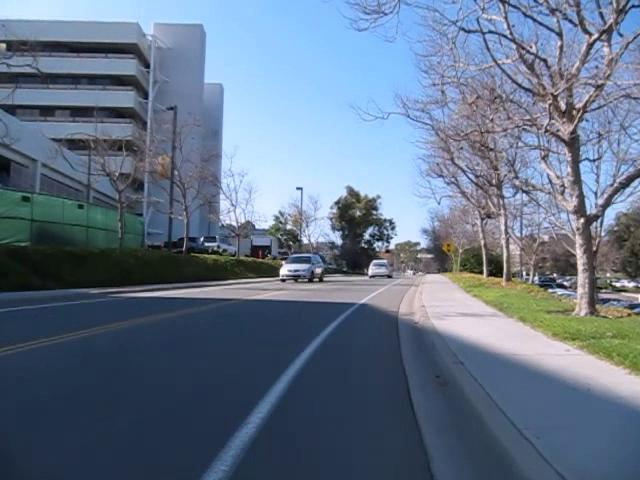signalAhead: (440, 239, 457, 256)
